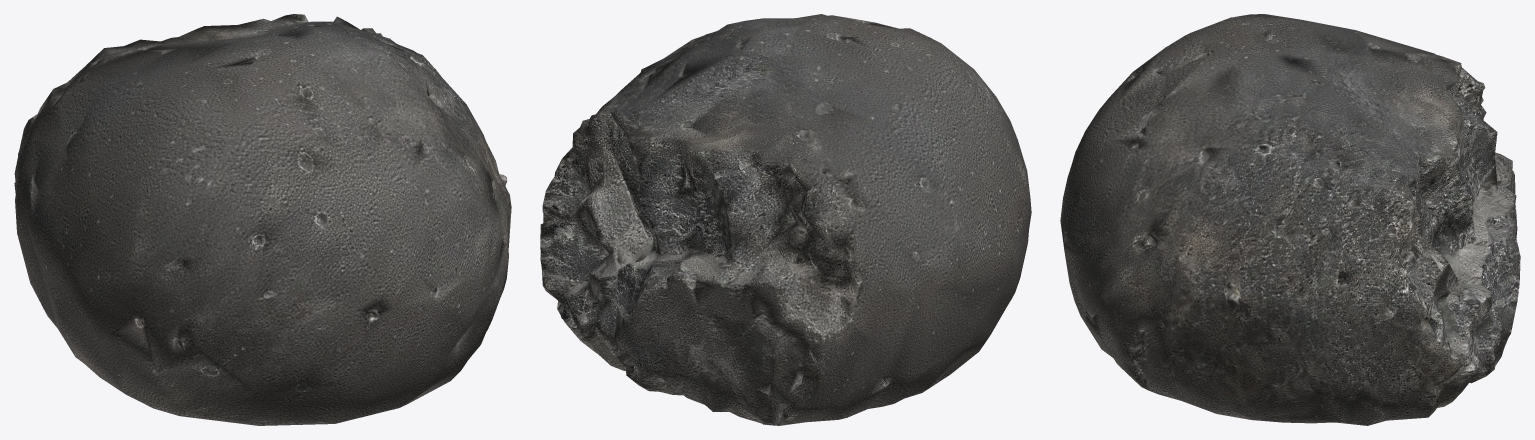
The model's file is rock-talus.glb.
3 views of the same model, side by side, from view 1: azimuth 30°, elevation 25°; view 2: azimuth 150°, elevation 25°; view 3: azimuth 270°, elevation 25° (orthographic). The views are drawn at different scales.
Parts seen in each view (by area): view 1: lod0; view 2: lod0; view 3: lod0.
Boxes of the visible parts, left/top/right/bottom form: lod0: left=14, top=14, right=511, bottom=425; lod0: left=540, top=14, right=1031, bottom=425; lod0: left=1060, top=14, right=1520, bottom=425.
Size of what is drawn, in the model's own units: 0.9969 by 0.7188 by 0.9919.
1 material, 1 textured.
